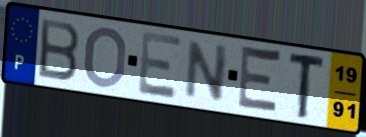B: (36, 16, 82, 84)
E: (235, 42, 285, 118), (137, 29, 185, 102)
N: (181, 38, 232, 104)
O: (81, 24, 129, 90)
T: (287, 53, 328, 121)
